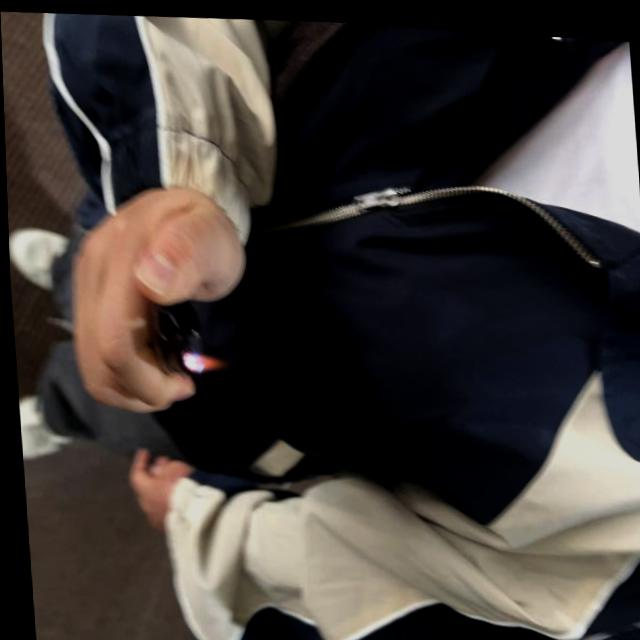helmet: (178, 347, 223, 374)
